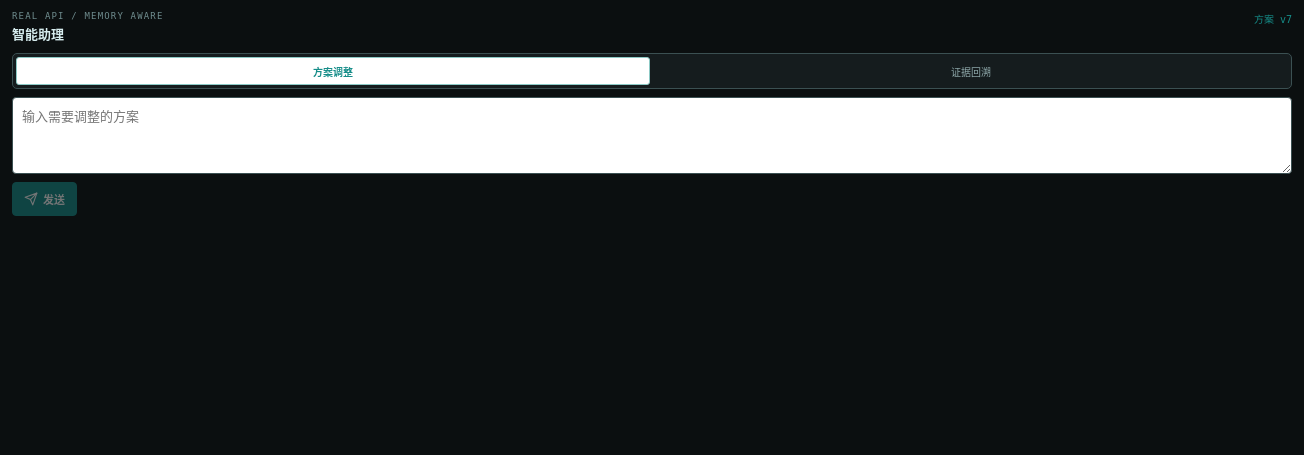
SmartAssistantPanel › exposes the two assistant modes and applies only the backend proposal
Expected: the heading "智能助理" is shown, [12,24,64,43]
Type "调整下一交接窗口" into the text box named "智能助理输入" at (652, 135), box [12,97,1292,174]
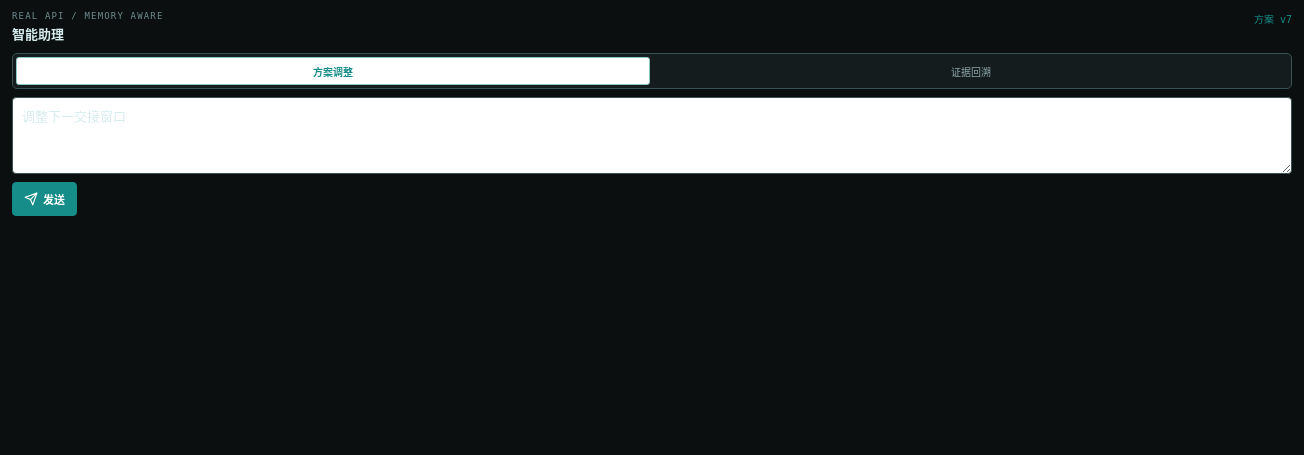
Click the button "发送" at (44, 198), box [12,182,77,216]
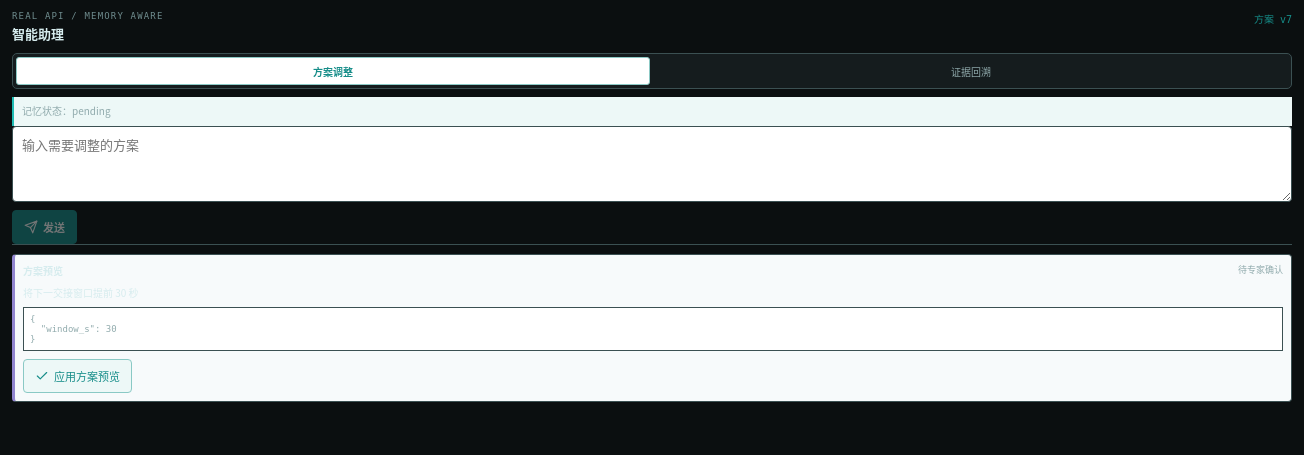
Result: the text "将下一交接窗口提前 30 秒" is shown at [23,285,139,300]
Result: the button "应用方案预览" is shown
Click the button "应用方案预览" at (78, 376), box [23,359,132,393]
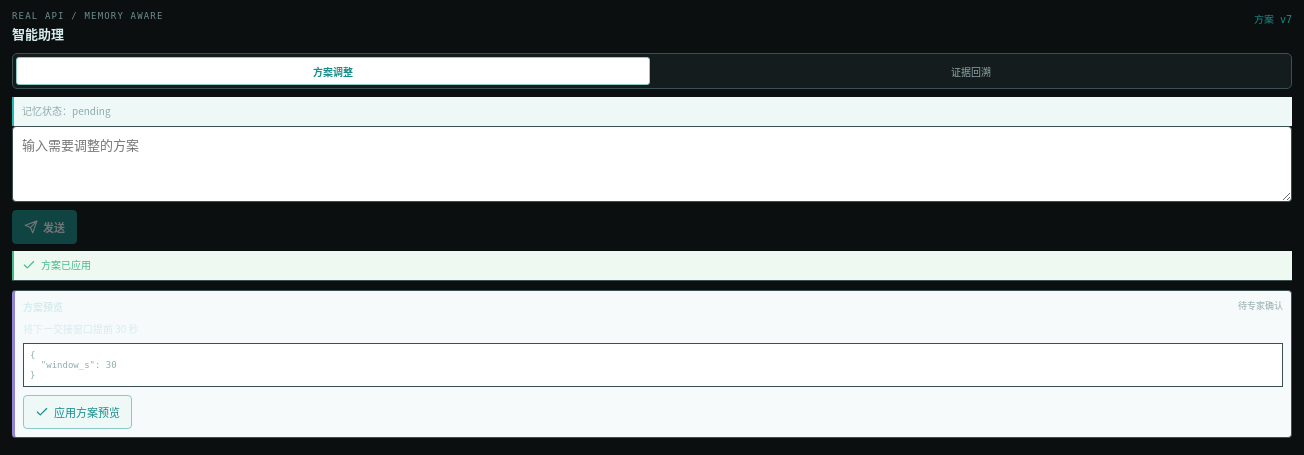
Result: the text "方案已应用" is shown at [12,251,1292,280]
